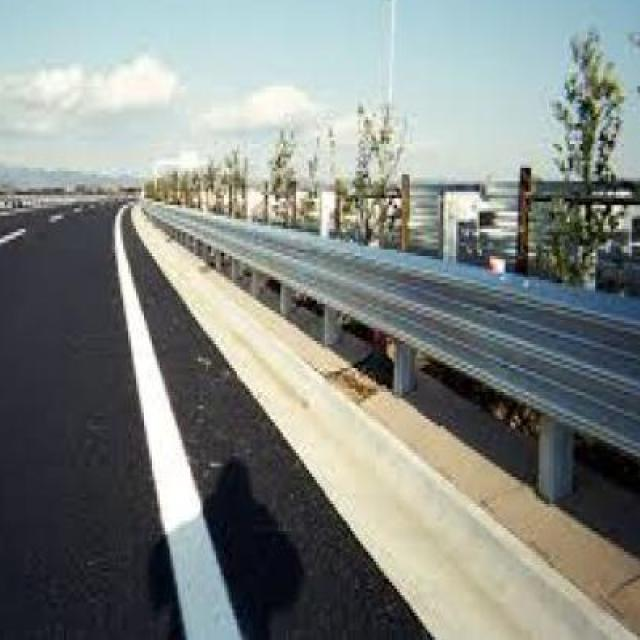Guard rail: (139, 181, 640, 536)
